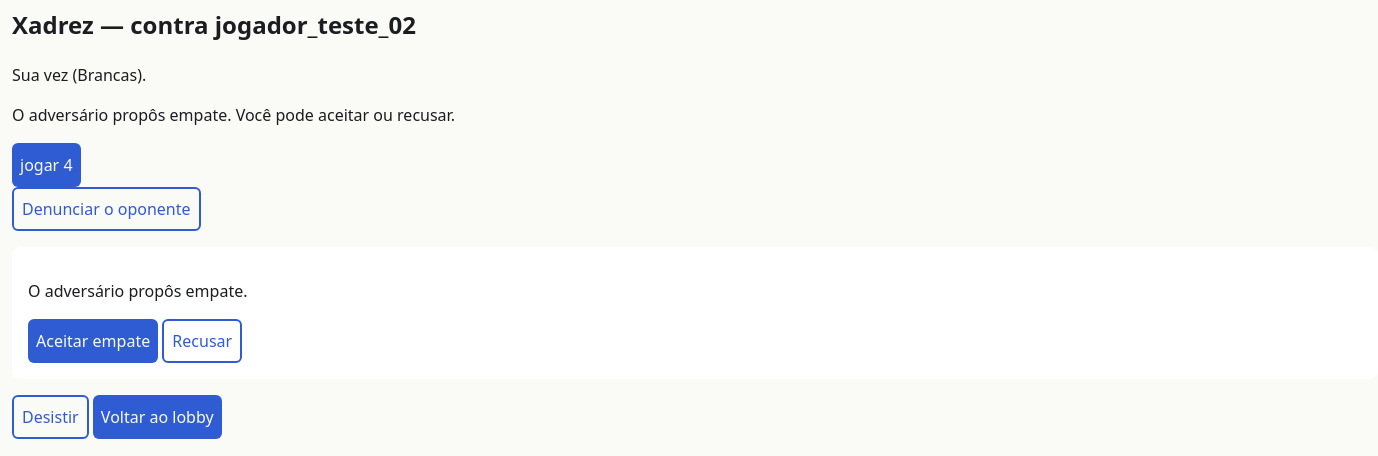
proposta de empate do adversário é anunciada e pode ser aceita ou recusada
The width and height of the screenshot is (1378, 456).
Expected: the element with test id "board" is shown, [12,143,80,187]
Expected: the text "O adversário propôs empate. Você pode aceitar ou recusar." is shown, [12,104,455,126]
Click the button "Aceitar empate" at (93, 341), box [28,319,158,363]
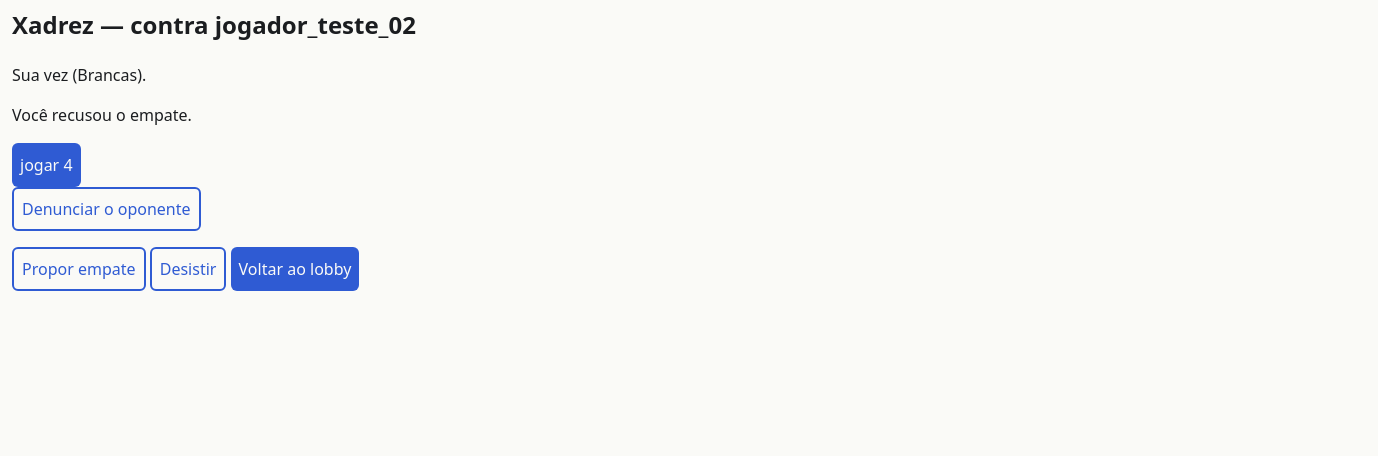
Expected: the text "Você recusou o empate." is shown, [12,104,192,126]
